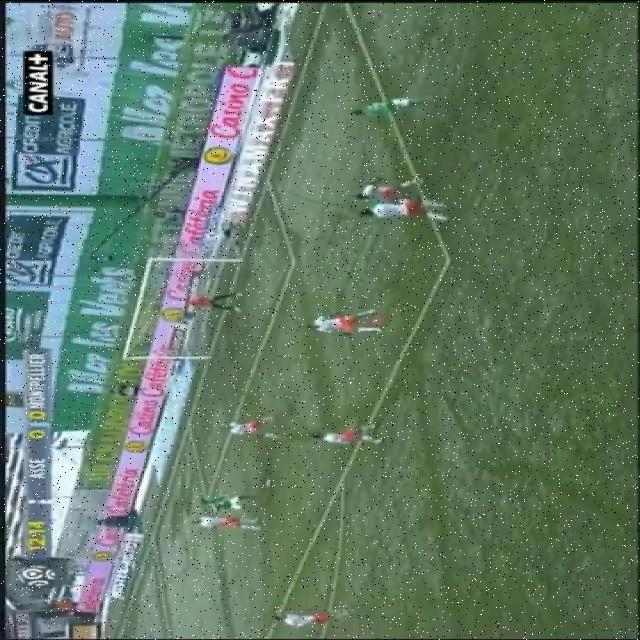ball: (364, 312, 400, 325)
goalkeeper: (179, 285, 261, 317)
player: (252, 589, 371, 638), (311, 403, 412, 455), (344, 83, 452, 125), (341, 196, 461, 230), (351, 168, 449, 207), (293, 306, 383, 348), (168, 485, 268, 509), (189, 510, 267, 536), (232, 407, 283, 443)
